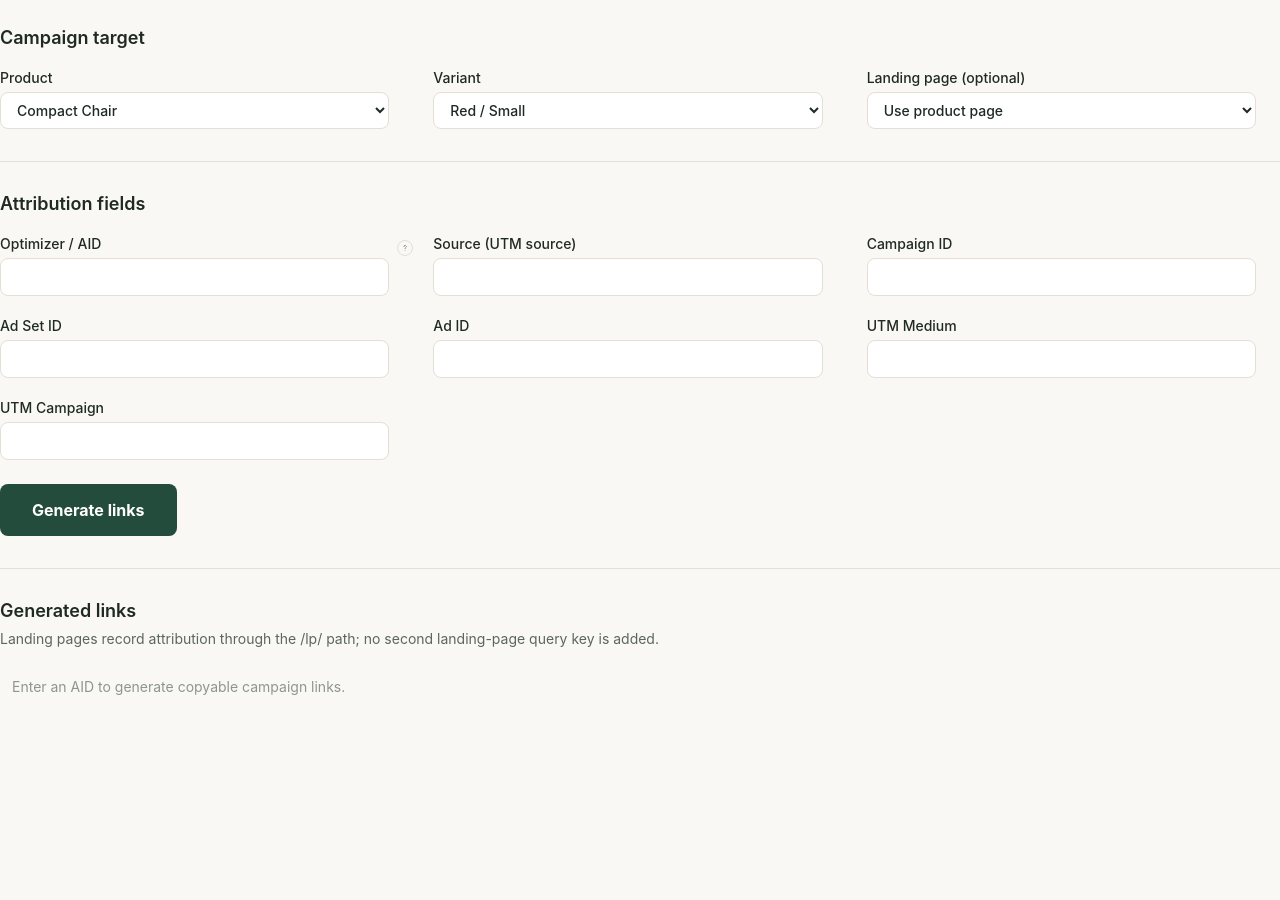
CampaignLinkBuilder › shows a manual-copy message when copying fails
In the field labelled "Optimizer / AID": (195, 277) [0,258,389,296], type "optimizer-a"
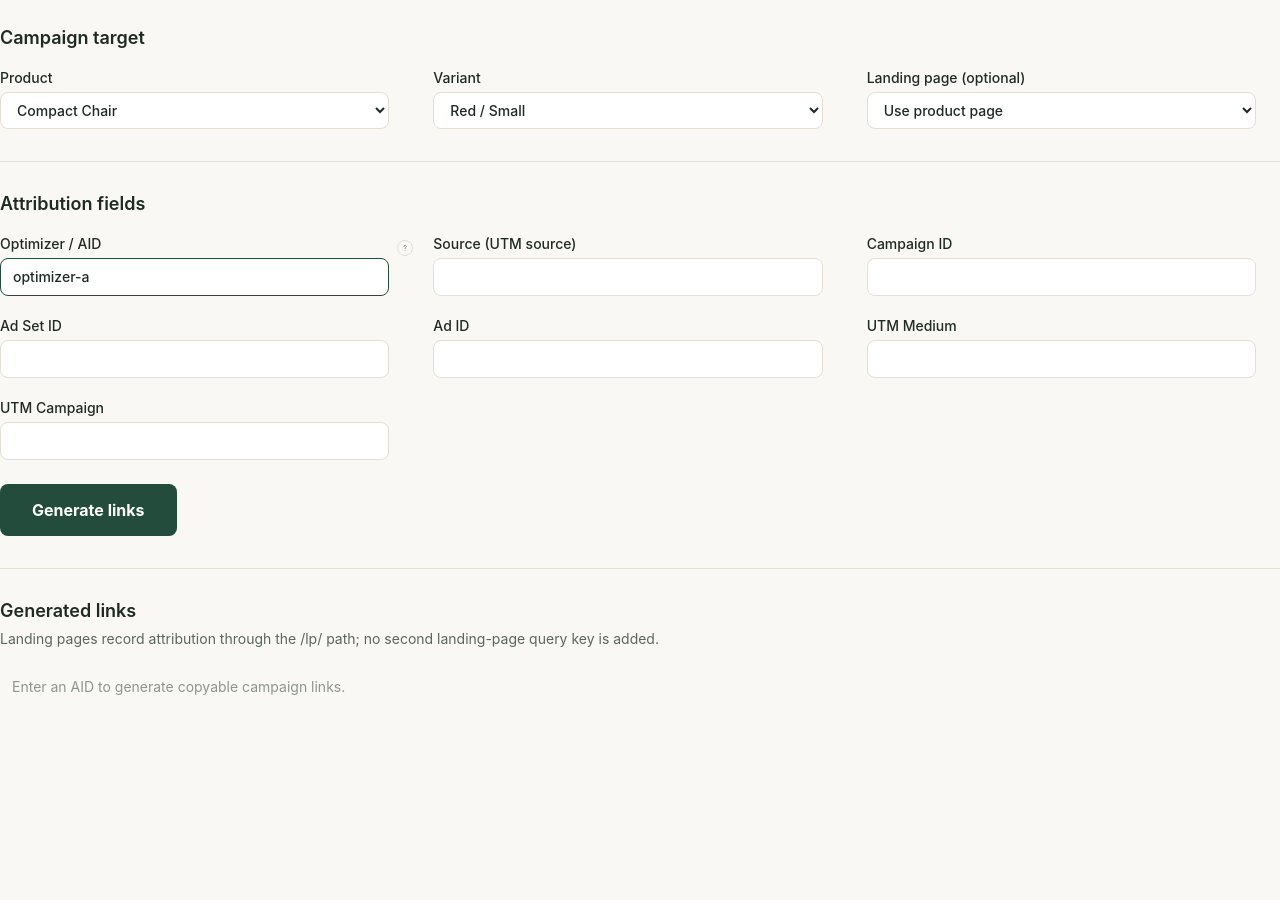
Click the button "Generate links": (88, 510) [0,484,176,536]
(page scrolled)
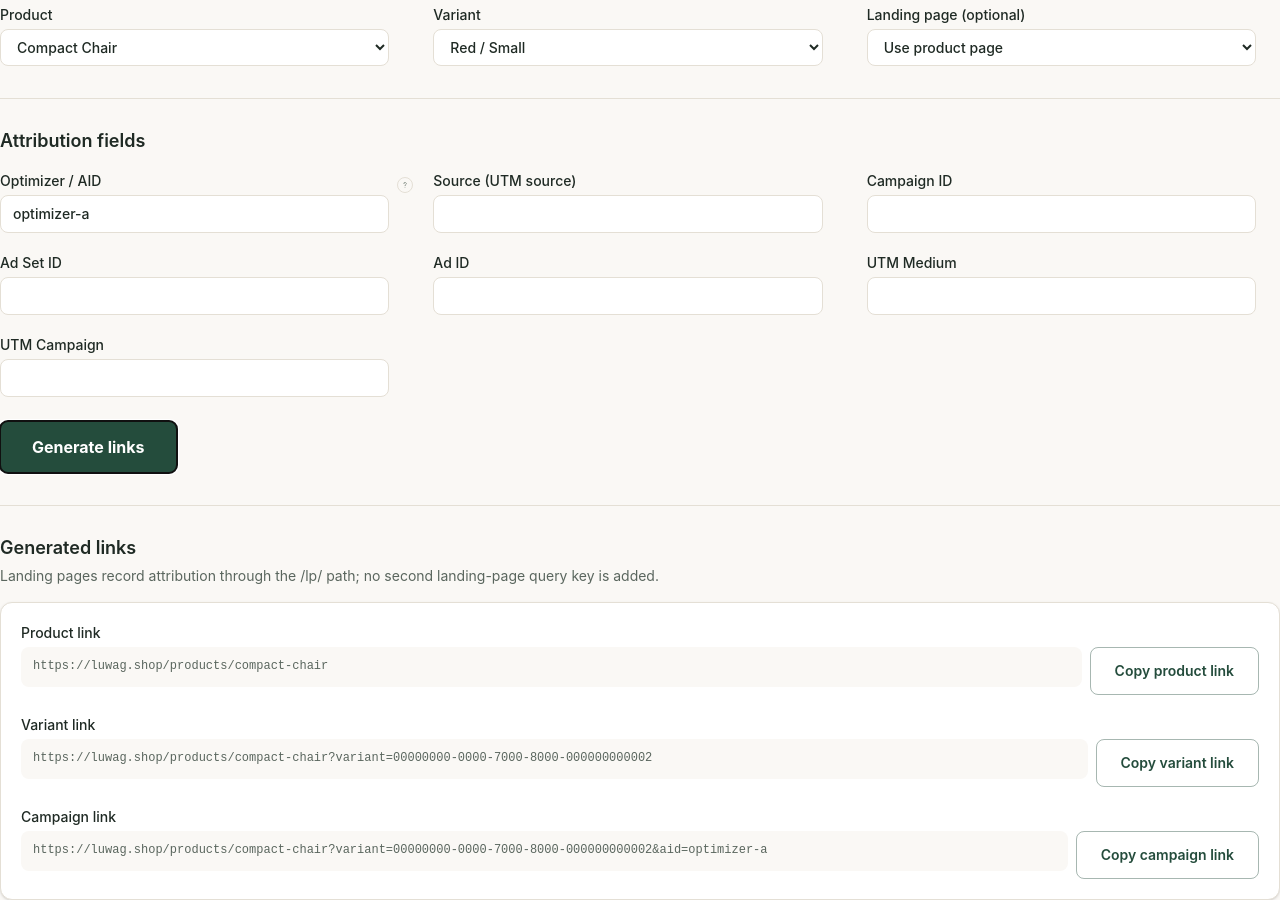
Click the button "Copy campaign link": (1167, 855) [1076,831,1259,879]
(page scrolled)
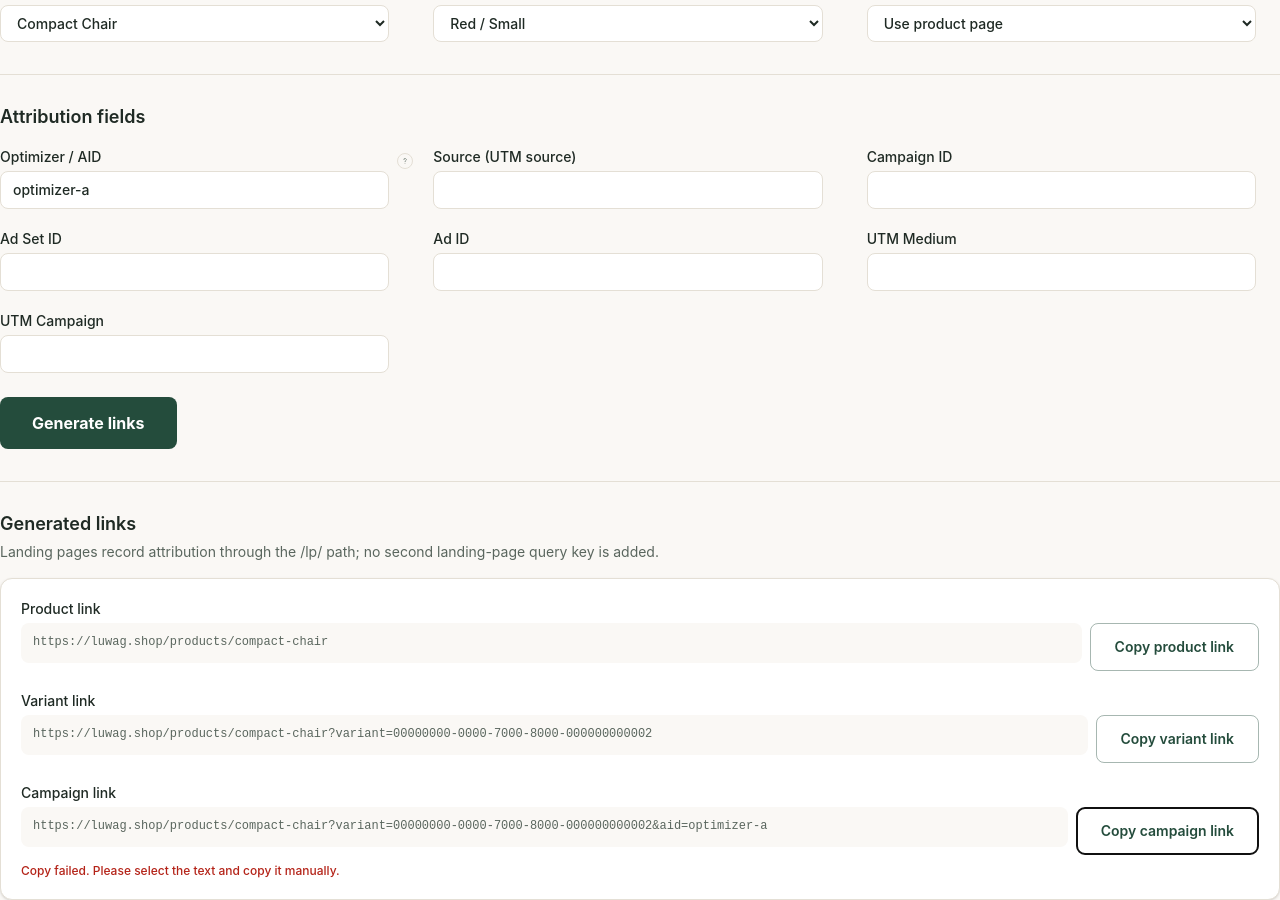
Now the text "Copy failed. Please select the text and copy it manually." is shown, box [21,863,340,878]
